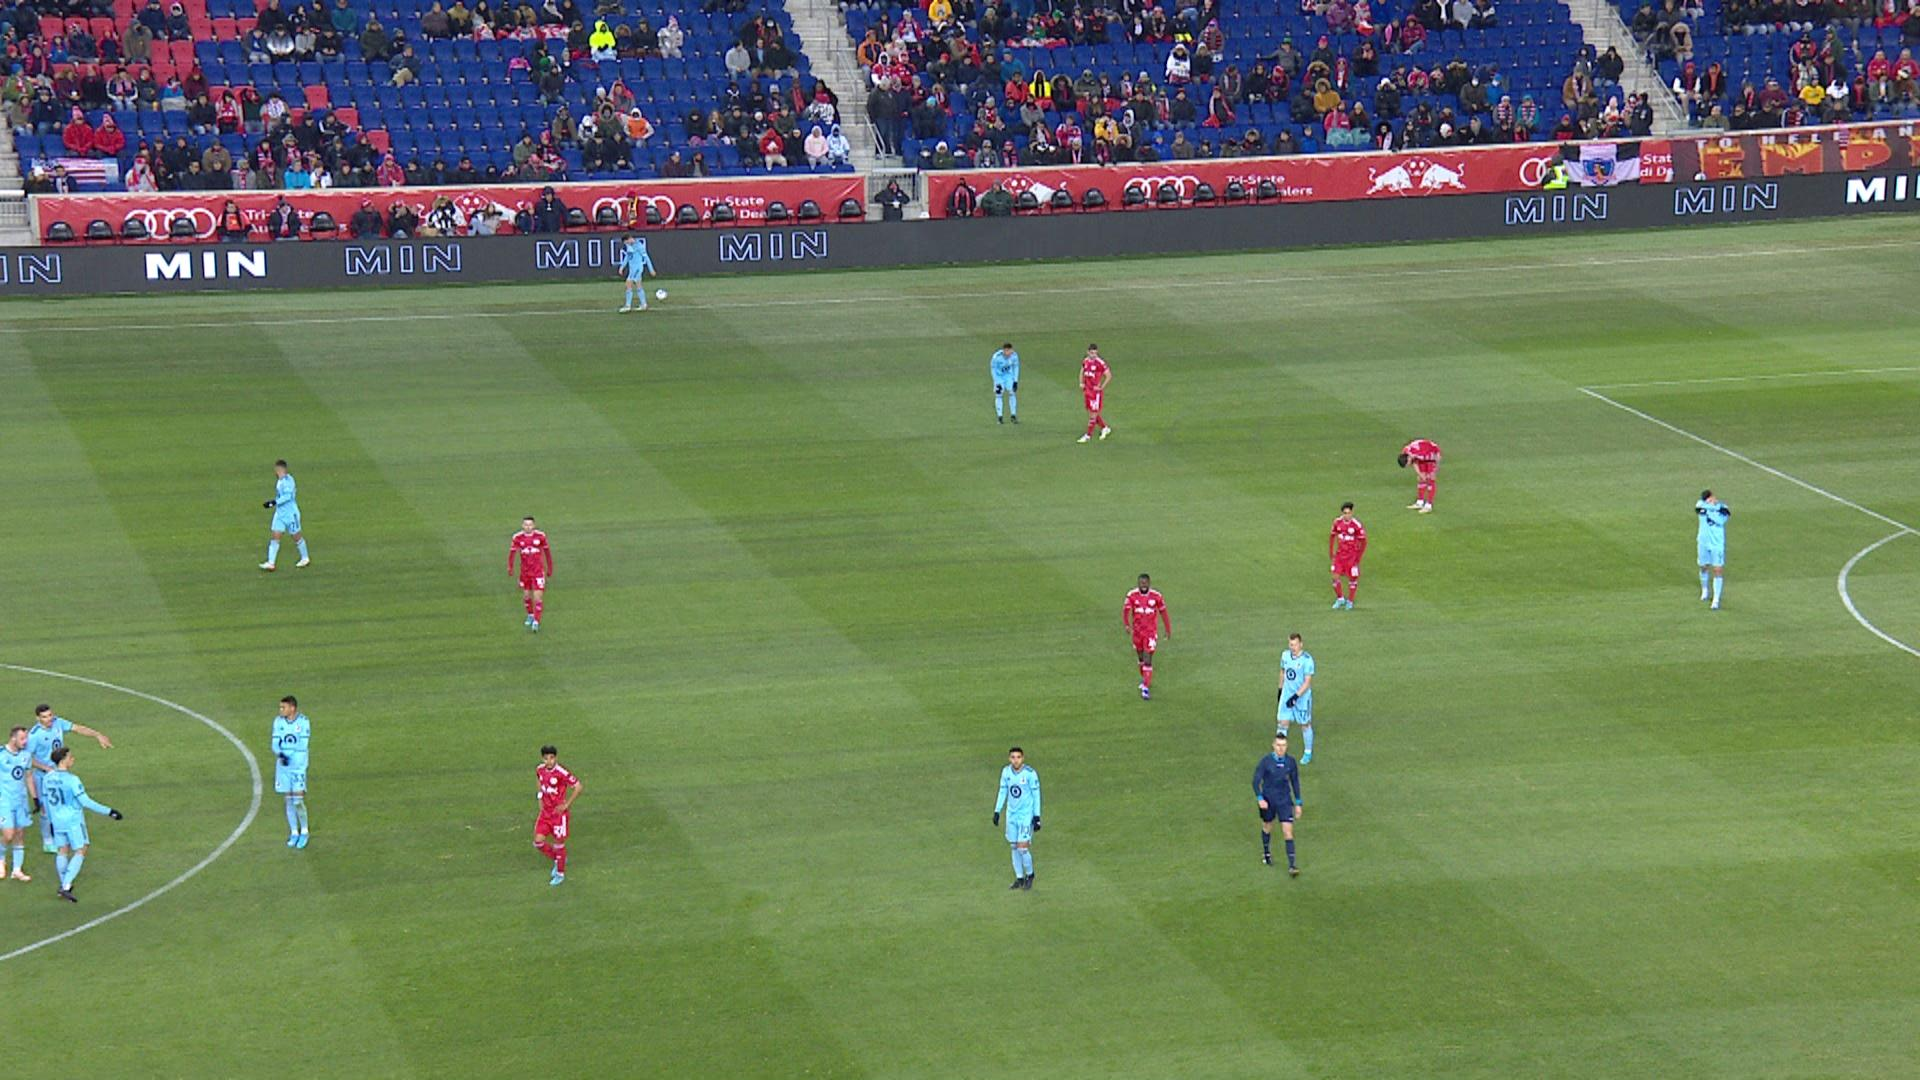football: (655, 287, 670, 302)
